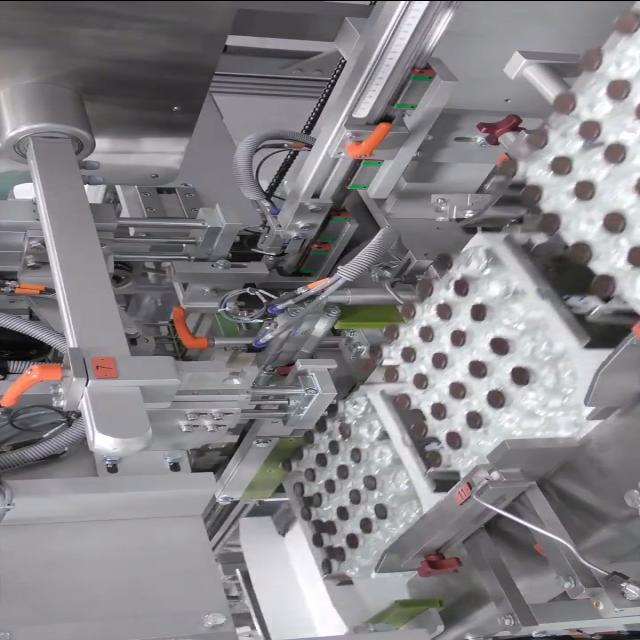vial: (614, 12, 640, 32), (608, 76, 634, 96), (552, 91, 574, 112), (486, 388, 504, 412), (578, 52, 599, 72), (542, 213, 560, 233), (607, 144, 628, 161), (606, 211, 624, 230), (462, 412, 482, 429), (592, 276, 610, 294), (512, 368, 530, 386), (315, 414, 333, 432), (576, 242, 592, 262), (426, 447, 442, 467), (338, 418, 353, 438), (577, 182, 595, 198), (437, 254, 455, 270), (450, 326, 466, 344), (627, 242, 640, 264), (576, 124, 596, 138), (554, 156, 571, 172), (630, 92, 640, 118), (468, 302, 484, 318), (469, 361, 485, 377), (348, 487, 362, 505), (491, 336, 506, 352), (330, 399, 346, 414), (501, 160, 518, 174), (522, 183, 536, 200), (448, 431, 462, 448), (450, 381, 463, 399), (528, 130, 546, 142), (438, 302, 450, 320), (419, 280, 434, 294), (402, 345, 417, 359), (395, 394, 410, 408), (323, 478, 338, 492), (412, 422, 425, 438), (432, 351, 444, 368), (352, 446, 364, 463), (360, 515, 372, 532), (404, 300, 418, 314), (384, 325, 398, 339), (303, 428, 317, 442), (430, 402, 442, 418), (346, 532, 358, 548), (367, 343, 380, 357), (420, 326, 432, 341), (454, 280, 468, 292), (414, 374, 426, 388), (366, 472, 376, 488), (384, 368, 396, 380), (325, 442, 337, 454), (317, 451, 327, 465), (339, 505, 349, 519), (321, 560, 331, 574), (314, 491, 322, 507), (376, 503, 384, 519), (339, 464, 348, 478), (337, 545, 346, 559), (634, 176, 640, 195), (328, 520, 336, 534), (294, 444, 303, 456), (286, 458, 294, 471), (306, 468, 314, 480), (302, 508, 310, 520), (312, 533, 318, 547), (292, 484, 299, 495)
